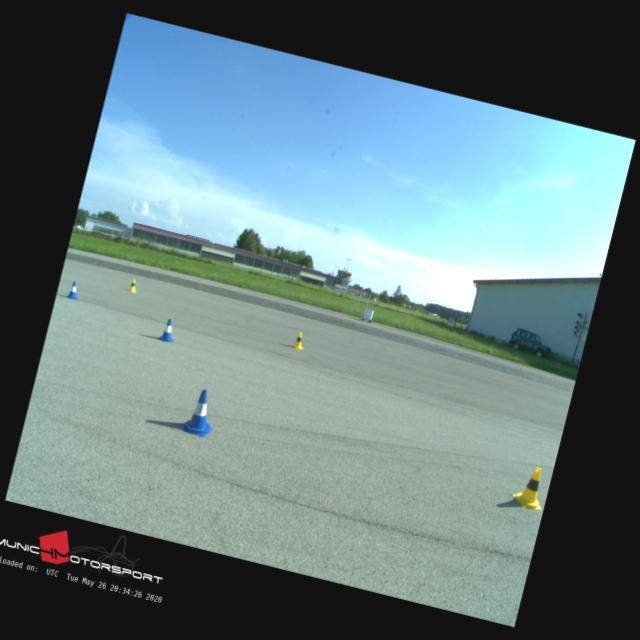blue_cone: (178, 386, 220, 438), (156, 317, 178, 342), (65, 280, 80, 298)
yellow_cone: (510, 463, 550, 512), (291, 331, 306, 349), (128, 278, 138, 292)
